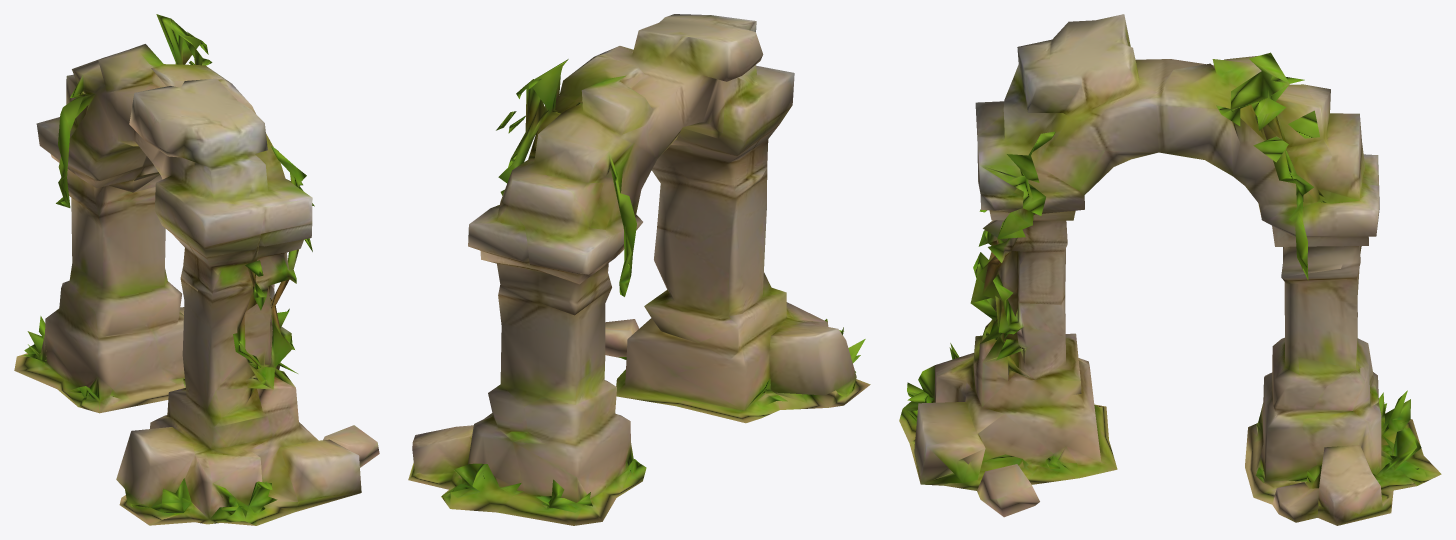
Rendered from arch.glb.
3 renders of one model, left to right at view 1: azimuth 30°, elevation 25°; view 2: azimuth 150°, elevation 25°; view 3: azimuth 270°, elevation 25°, orthographic. The views are drawn at different scales.
Visible parts, largest first — view 1: tripo_node_71e84801-ca03-4c7f-85e6-8408c9f97e56; view 2: tripo_node_71e84801-ca03-4c7f-85e6-8408c9f97e56; view 3: tripo_node_71e84801-ca03-4c7f-85e6-8408c9f97e56.
Boxes of the visible parts, left/top/right/bottom form: tripo_node_71e84801-ca03-4c7f-85e6-8408c9f97e56: left=14, top=14, right=379, bottom=525; tripo_node_71e84801-ca03-4c7f-85e6-8408c9f97e56: left=408, top=14, right=870, bottom=525; tripo_node_71e84801-ca03-4c7f-85e6-8408c9f97e56: left=899, top=14, right=1441, bottom=525.
Bounding box in the file's own units: 0.6101 × 0.8461 × 1.
1 material, 1 textured.
